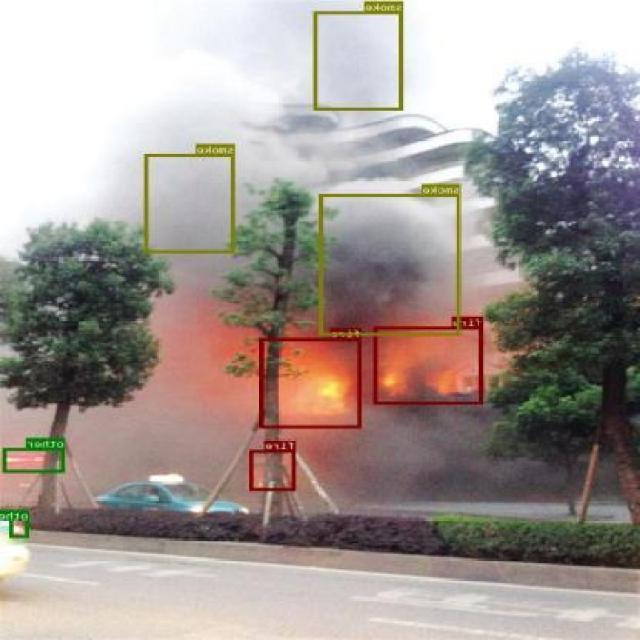Fire: (260, 338, 362, 427), (374, 326, 484, 404), (252, 449, 296, 491)
Smoke: (321, 194, 461, 336), (144, 154, 236, 252), (314, 10, 404, 110)
